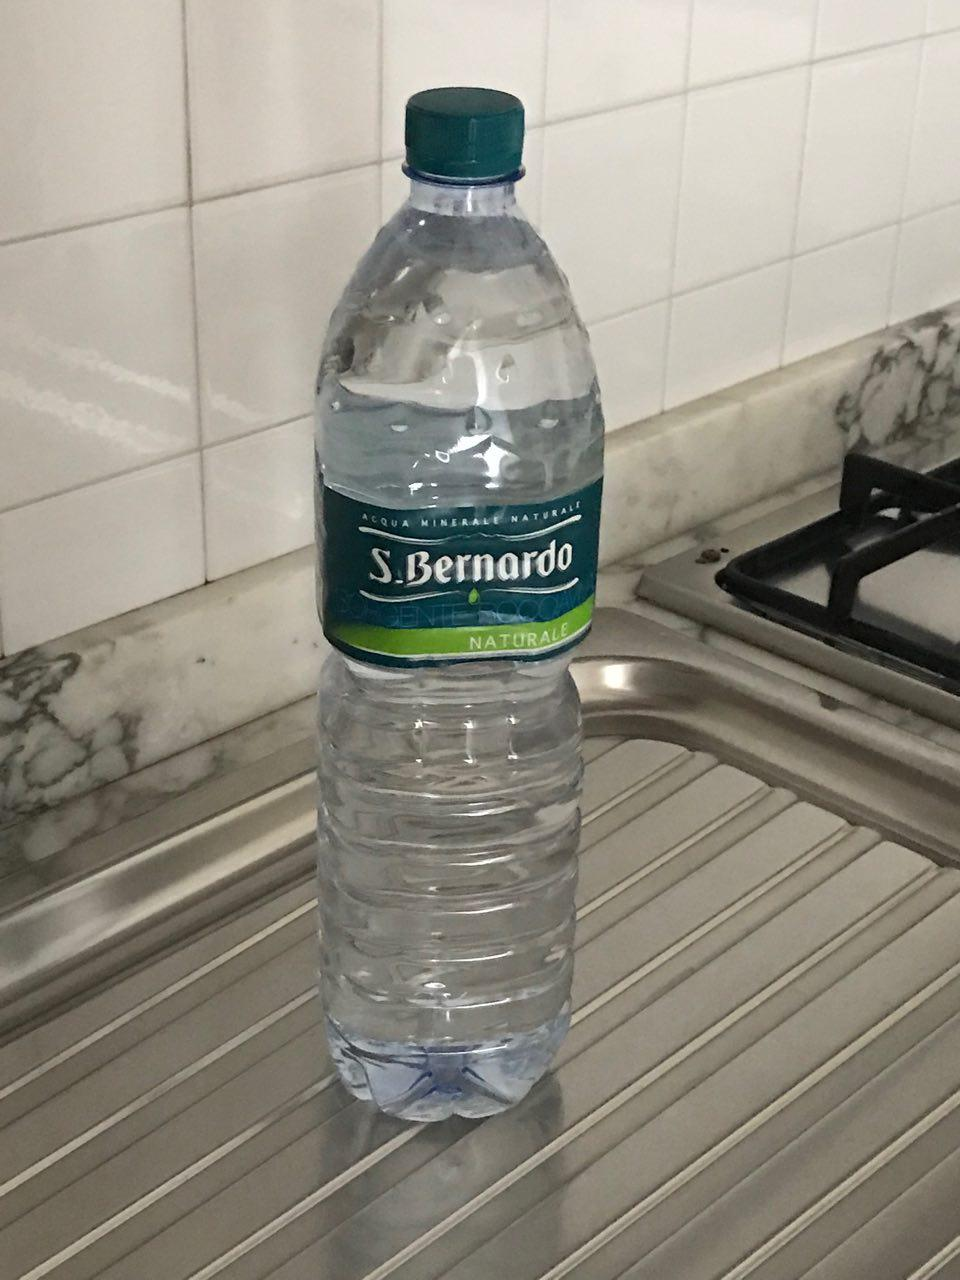san_bernardo: (311, 85, 606, 1123)
